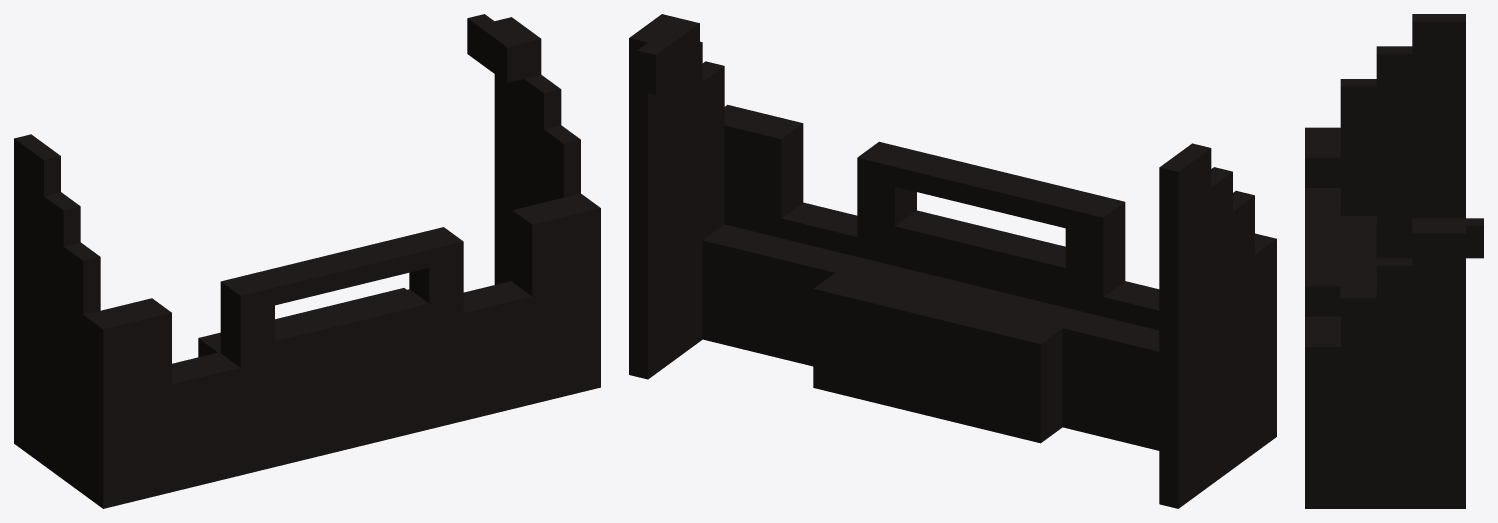
File: beard.glb
3 views of the same model, side by side, from view 1: azimuth 30°, elevation 25°; view 2: azimuth 150°, elevation 25°; view 3: azimuth 270°, elevation 25° (orthographic). The views are drawn at different scales.
Parts seen in each view (by area): view 1: beard.001; view 2: beard.001; view 3: beard.001.
Boxes of the visible parts, <box> form: beard.001: <box>14,14,600,508</box>; beard.001: <box>629,14,1276,508</box>; beard.001: <box>1305,14,1483,508</box>.
Size of the model in its own units: 2.9 by 1.7 by 0.9999.
Materials: 1 (1 with a texture image).
